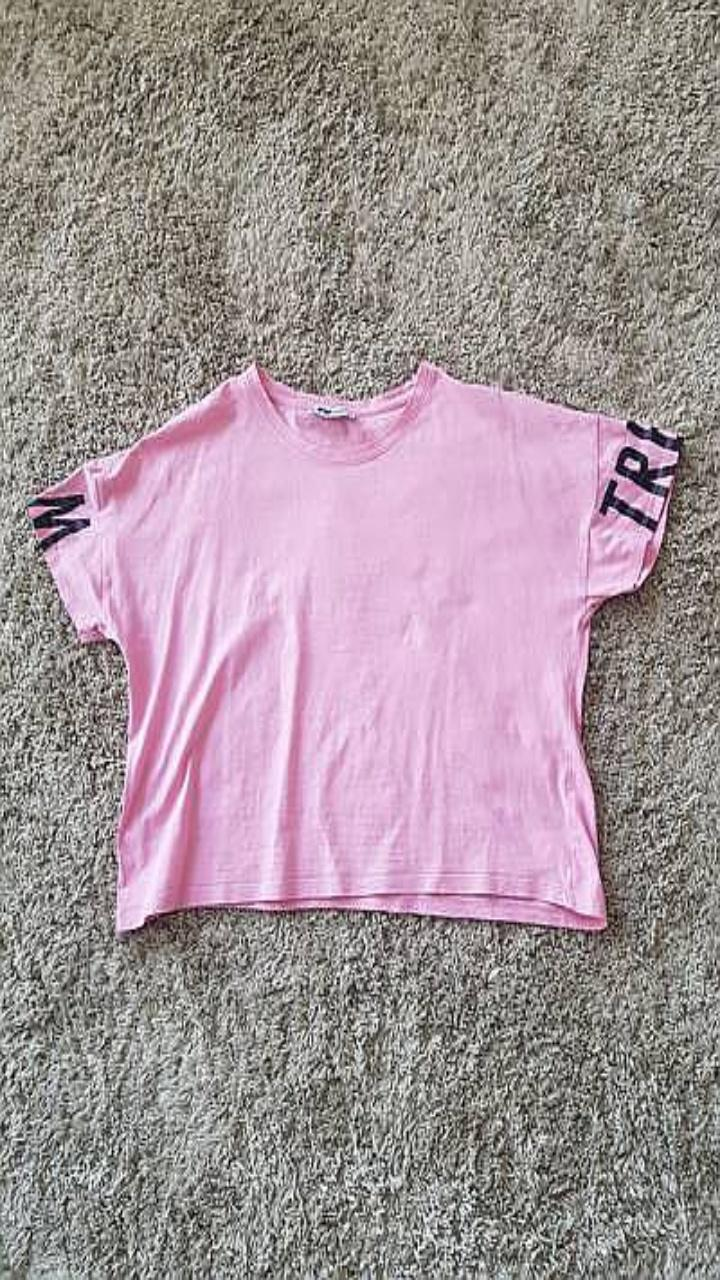T-Shirt: (28, 360, 682, 932)
